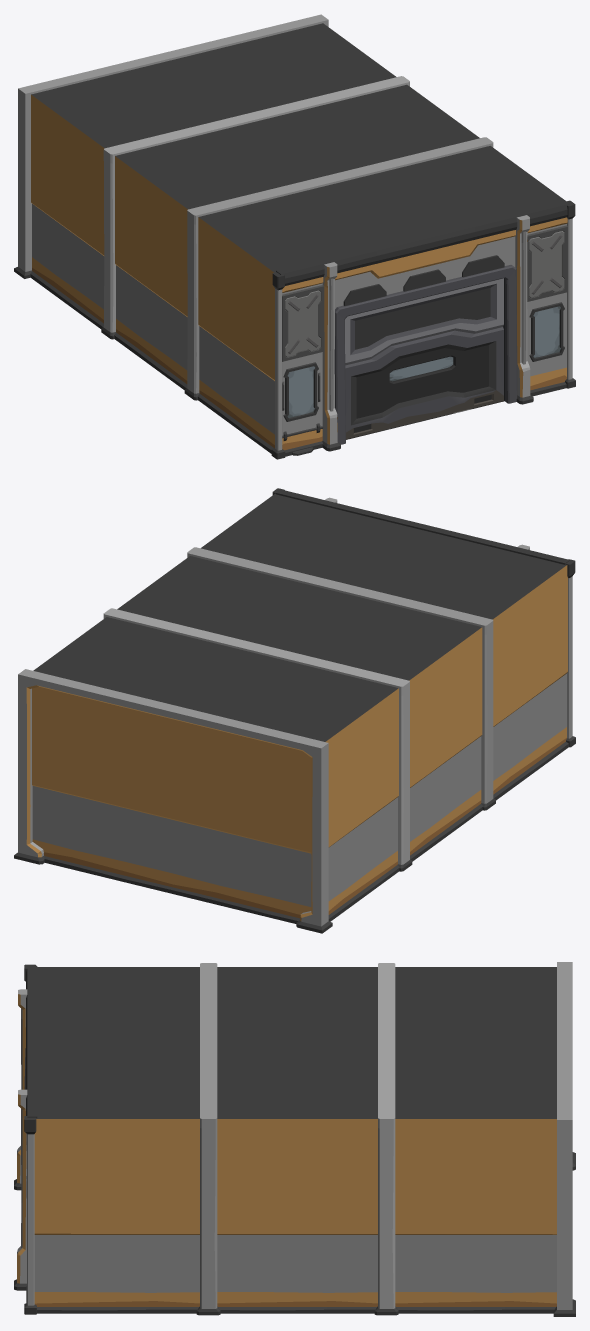
The model's file is warehouse.glb.
The picture shows the model from 3 angles, top to bottom: view 1: azimuth 30°, elevation 25°; view 2: azimuth 150°, elevation 25°; view 3: azimuth 270°, elevation 25°; orthographic projection. The views are drawn at different scales.
Visible parts, largest first — view 1: SM_Bld_Warehouse_01; view 2: SM_Bld_Warehouse_01; view 3: SM_Bld_Warehouse_01.
Part boxes in pixels (<box>): SM_Bld_Warehouse_01: <box>14,14,575,459</box>; SM_Bld_Warehouse_01: <box>14,488,575,933</box>; SM_Bld_Warehouse_01: <box>14,962,575,1316</box>.
Bounding box in the file's own units: 10.67 × 6.07 × 15.79.
1 material, 1 textured.
